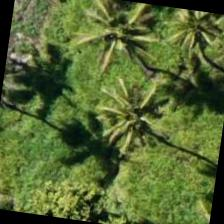Kelapa_Sawit: (79, 78, 181, 180), (68, 0, 169, 84), (147, 5, 223, 75)
